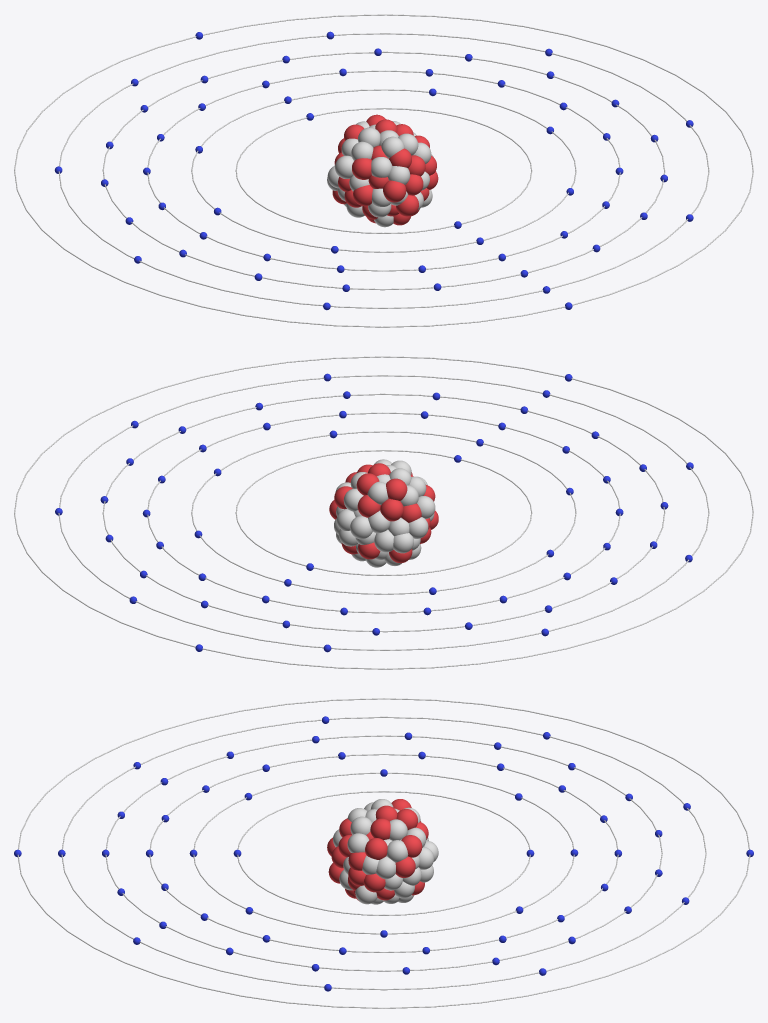
The model's file is Cer.glb.
The picture shows the model from 3 angles, top to bottom: view 1: azimuth 30°, elevation 25°; view 2: azimuth 150°, elevation 25°; view 3: azimuth 270°, elevation 25°; orthographic projection.
Visible parts, largest first — view 1: P-Schale, O-Schale, N-Schale, M-Schale, L-Schale, K-Schale; view 2: P-Schale, O-Schale, N-Schale, M-Schale, L-Schale, K-Schale; view 3: P-Schale, O-Schale, N-Schale, M-Schale, L-Schale, K-Schale.
Boxes of the visible parts, left/top/right/bottom form: P-Schale: left=14, top=14, right=753, bottom=327; O-Schale: left=58, top=33, right=709, bottom=308; N-Schale: left=102, top=51, right=665, bottom=290; M-Schale: left=147, top=70, right=620, bottom=271; L-Schale: left=191, top=89, right=576, bottom=252; K-Schale: left=235, top=108, right=532, bottom=233; P-Schale: left=14, top=356, right=753, bottom=669; O-Schale: left=58, top=375, right=709, bottom=650; N-Schale: left=102, top=393, right=665, bottom=632; M-Schale: left=147, top=412, right=620, bottom=613; L-Schale: left=191, top=431, right=576, bottom=594; K-Schale: left=235, top=450, right=532, bottom=575; P-Schale: left=17, top=698, right=750, bottom=1008; O-Schale: left=61, top=716, right=706, bottom=990; N-Schale: left=105, top=735, right=662, bottom=971; M-Schale: left=149, top=754, right=618, bottom=952; L-Schale: left=193, top=772, right=574, bottom=934; K-Schale: left=237, top=791, right=530, bottom=915.
Size of the model in its own units: 25.04 by 3.61 by 25.26.
